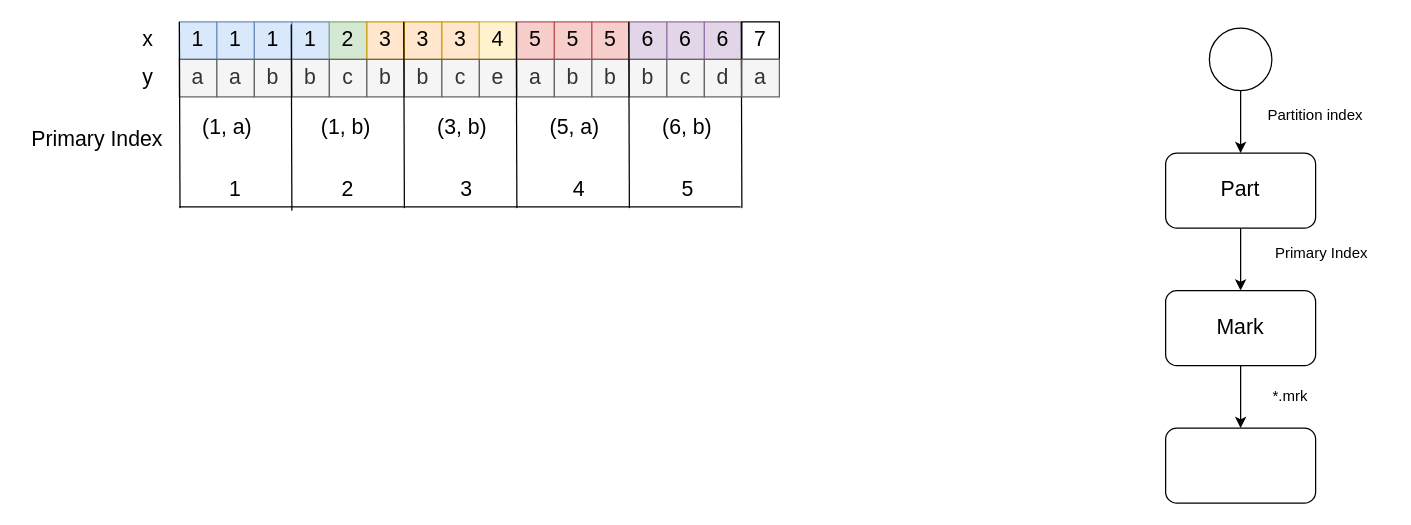
This 1411x525 diagram has some shape labels left out. Here are the shapes that lost their labels. From the top down, the centre of each, then its label:
[1240,59]: Query
[1240,465]: Column Data
